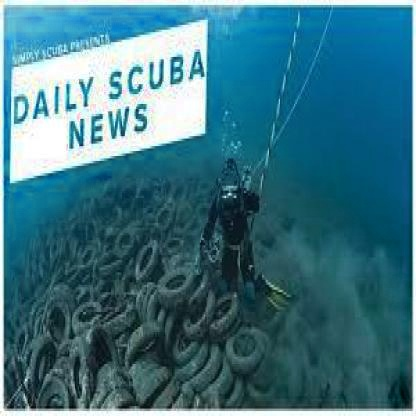tire: (9, 240, 246, 411), (56, 178, 206, 243)
